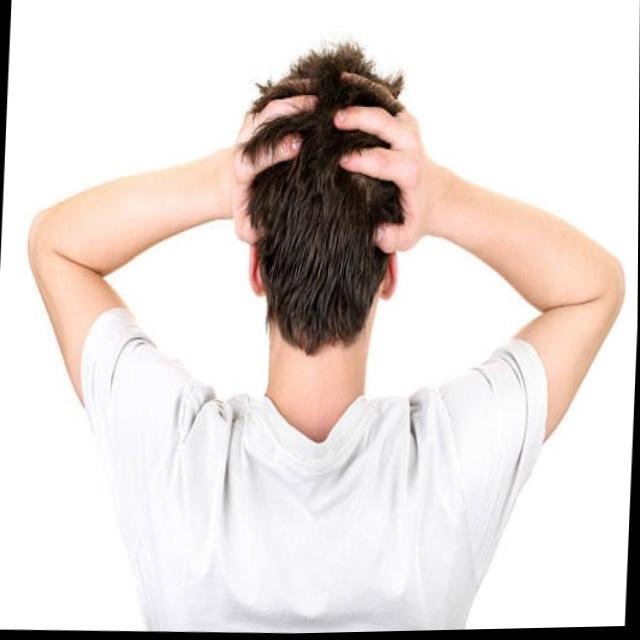no helmet: (244, 58, 413, 354)
